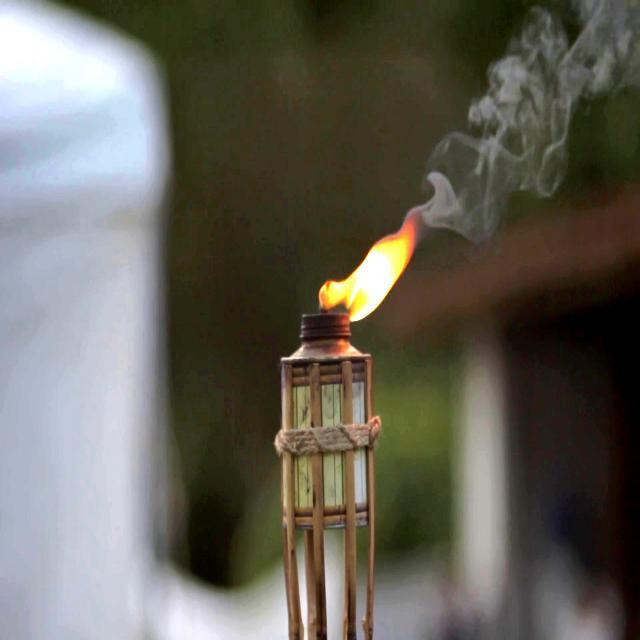Fire: (318, 222, 411, 319)
Smoke: (424, 0, 639, 228)
